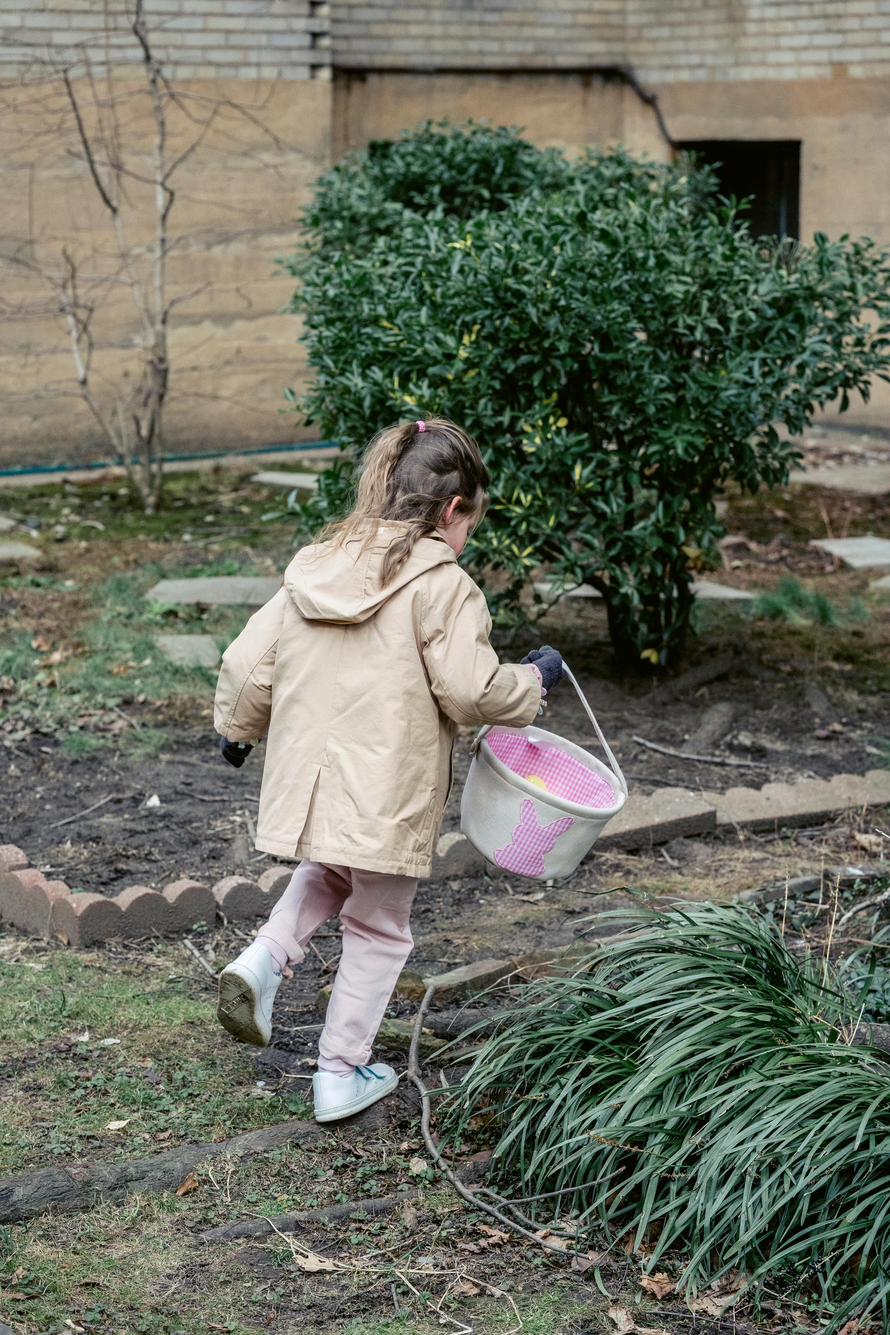Human: (212, 388, 549, 1125)
